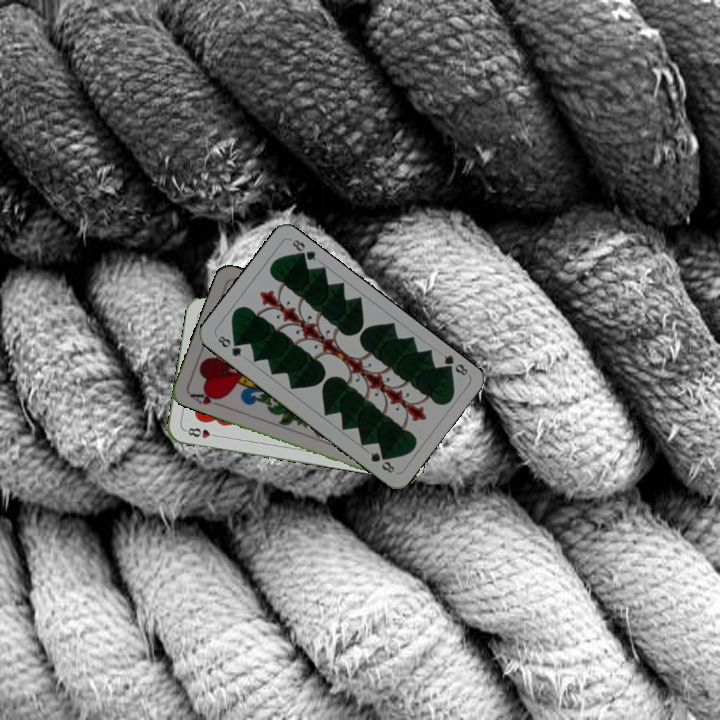G8: (437, 351, 470, 378), (213, 331, 244, 359)
H8: (181, 424, 222, 441)
HA: (186, 387, 225, 410)
